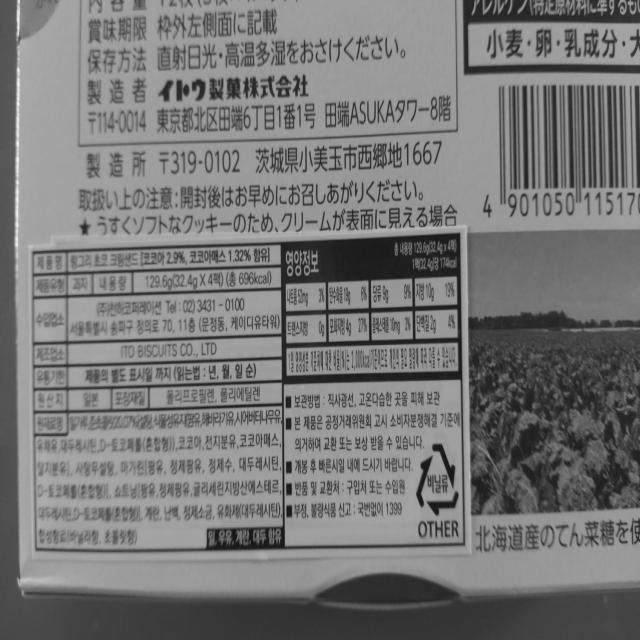Nutrition Label: (277, 224, 466, 389)
